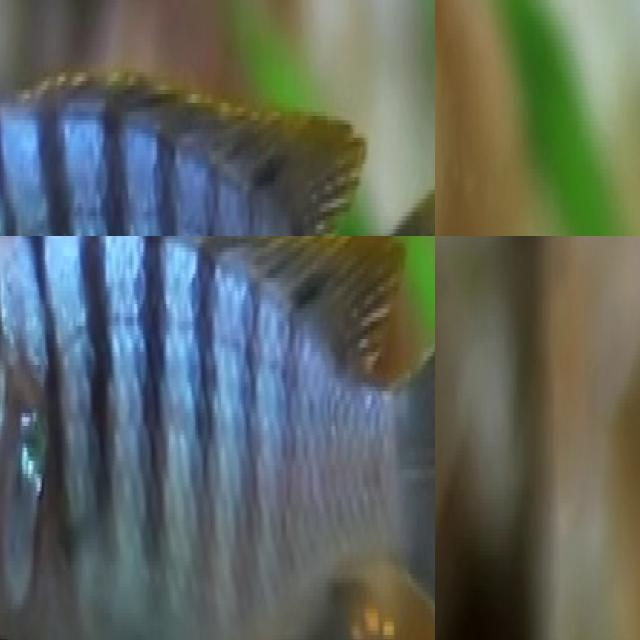fish: (0, 236, 435, 640), (0, 0, 435, 236)
